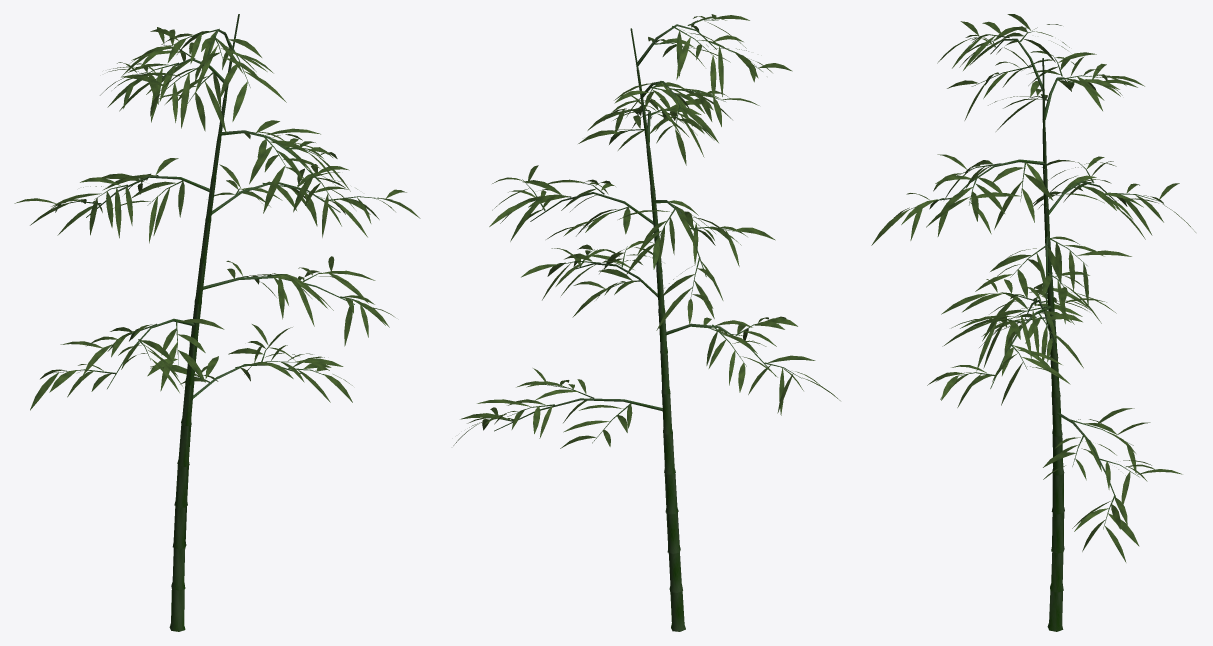
Rendered from bamboo_A_lod0.glb.
3 renders of one model, left to right at view 1: azimuth 30°, elevation 25°; view 2: azimuth 150°, elevation 25°; view 3: azimuth 270°, elevation 25°, orthographic. The views are drawn at different scales.
Visible parts, largest first — view 1: bamboo_A_L0__leaf, bamboo_A_L0__culm; view 2: bamboo_A_L0__leaf, bamboo_A_L0__culm; view 3: bamboo_A_L0__leaf, bamboo_A_L0__culm.
Part boxes in pixels (x1,y1,x2,y2): bamboo_A_L0__leaf: [14, 27, 420, 410]; bamboo_A_L0__culm: [53, 14, 392, 631]; bamboo_A_L0__leaf: [453, 14, 840, 448]; bamboo_A_L0__culm: [483, 19, 802, 631]; bamboo_A_L0__leaf: [871, 14, 1195, 562]; bamboo_A_L0__culm: [909, 31, 1163, 631].
Bounding box in the file's own units: 4.38 × 6.88 × 3.38.
2 materials, 2 textured.
